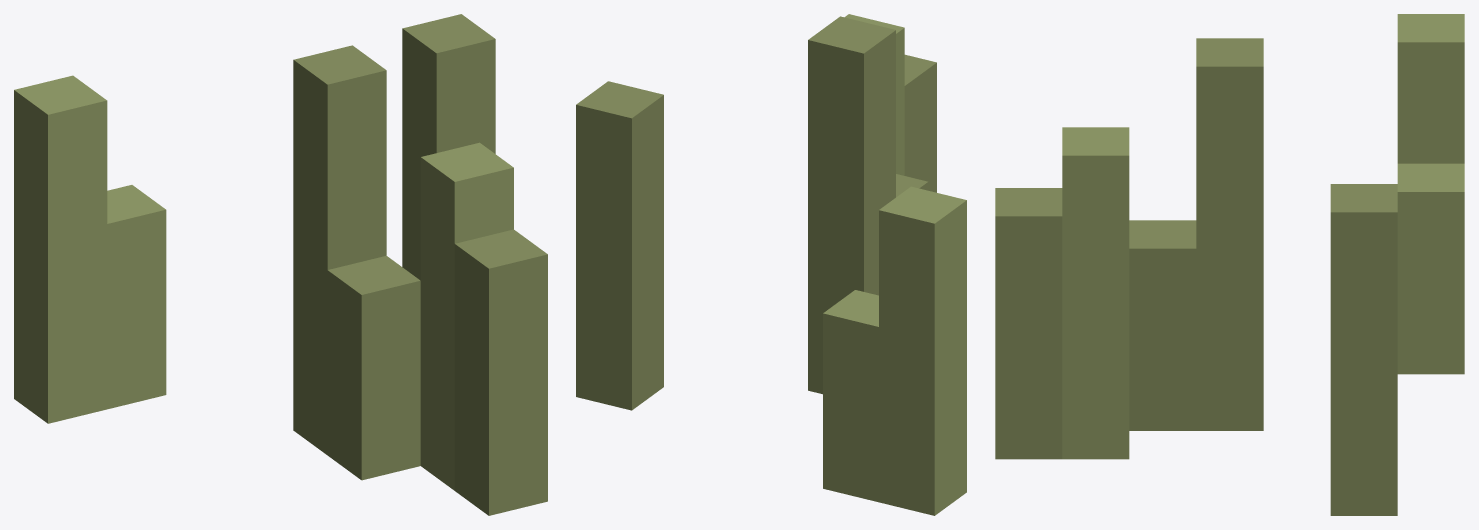
Rendered from musgo_de_turbera_03.glb.
3 renders of one model, left to right at view 1: azimuth 30°, elevation 25°; view 2: azimuth 150°, elevation 25°; view 3: azimuth 270°, elevation 25°, orthographic. The views are drawn at different scales.
Parts seen in each view (by area): view 1: musgo_de_turbera_03; view 2: musgo_de_turbera_03; view 3: musgo_de_turbera_03.
Part boxes in pixels (<box>): musgo_de_turbera_03: <box>14,14,547,515</box>; musgo_de_turbera_03: <box>576,14,966,515</box>; musgo_de_turbera_03: <box>995,14,1464,515</box>.
Bounding box in the file's own units: 0.7 × 0.6 × 0.7.
